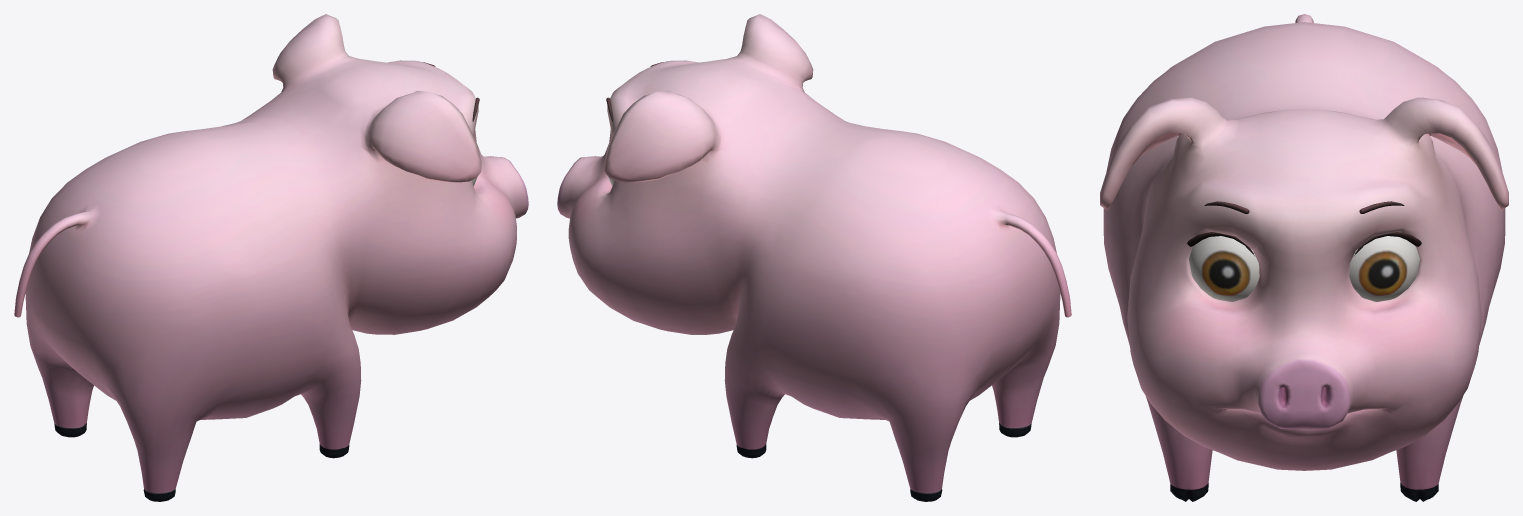
File: porco.glb
The picture shows the model from 3 angles, left to right: view 1: azimuth 30°, elevation 25°; view 2: azimuth 150°, elevation 25°; view 3: azimuth 270°, elevation 25°; orthographic projection. The views are drawn at different scales.
Parts seen in each view (by area): view 1: Object_2; view 2: Object_2; view 3: Object_2, Object_3.
Boxes of the visible parts, x1,y1,x2,y2 form: Object_2: (14, 14, 528, 501); Object_2: (557, 14, 1071, 501); Object_2: (1100, 14, 1508, 501); Object_3: (1187, 201, 1421, 303).
Size of the model in its own units: 0.5255 by 0.3465 by 0.2846.
2 materials, 2 textured.
